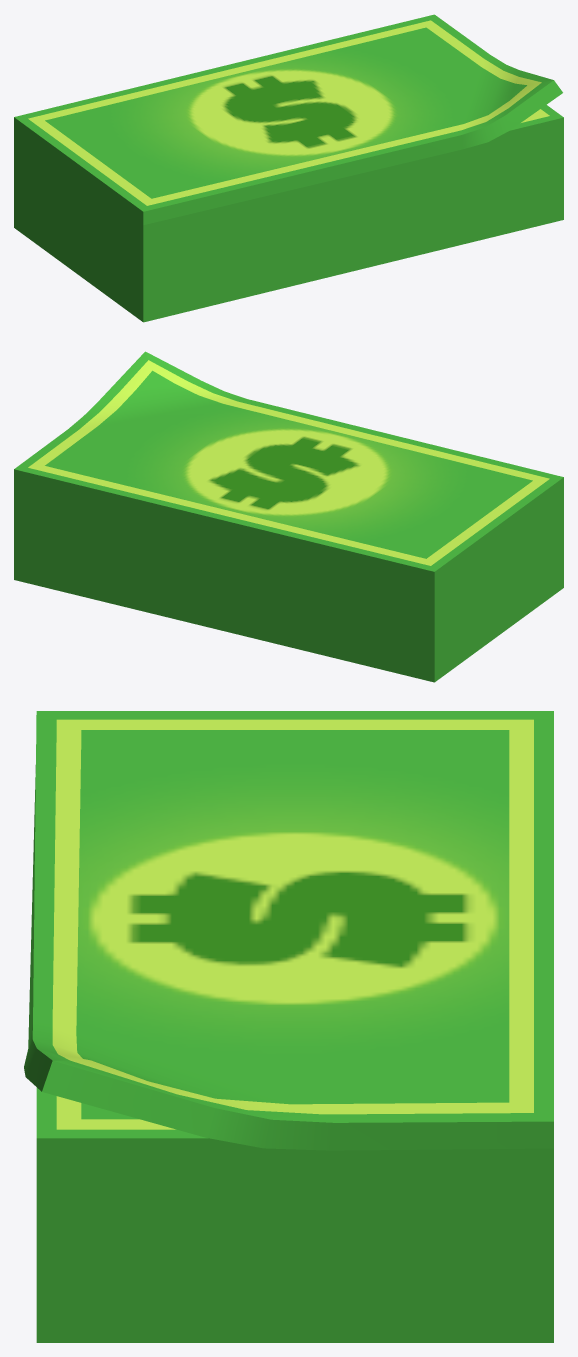
Rendered from MoneyBill_1.fbx.
The picture shows the model from 3 angles, top to bottom: view 1: azimuth 30°, elevation 25°; view 2: azimuth 150°, elevation 25°; view 3: azimuth 270°, elevation 25°; orthographic projection. The views are drawn at different scales.
Visible parts, largest first — view 1: MoneyBill_1; view 2: MoneyBill_1; view 3: MoneyBill_1.
Boxes of the visible parts, box(x1,y1,x2,y2) form: MoneyBill_1: box(14, 14, 563, 322); MoneyBill_1: box(14, 351, 563, 682); MoneyBill_1: box(24, 711, 553, 1342).
Size of the model in its own units: 33 by 10.3 by 17.9.
Materials: 1 (1 with a texture image).
